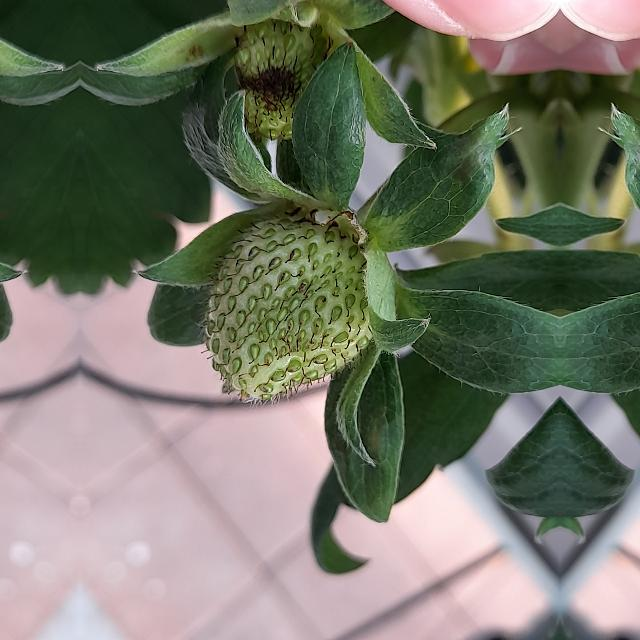Health_25: (194, 212, 372, 408)
